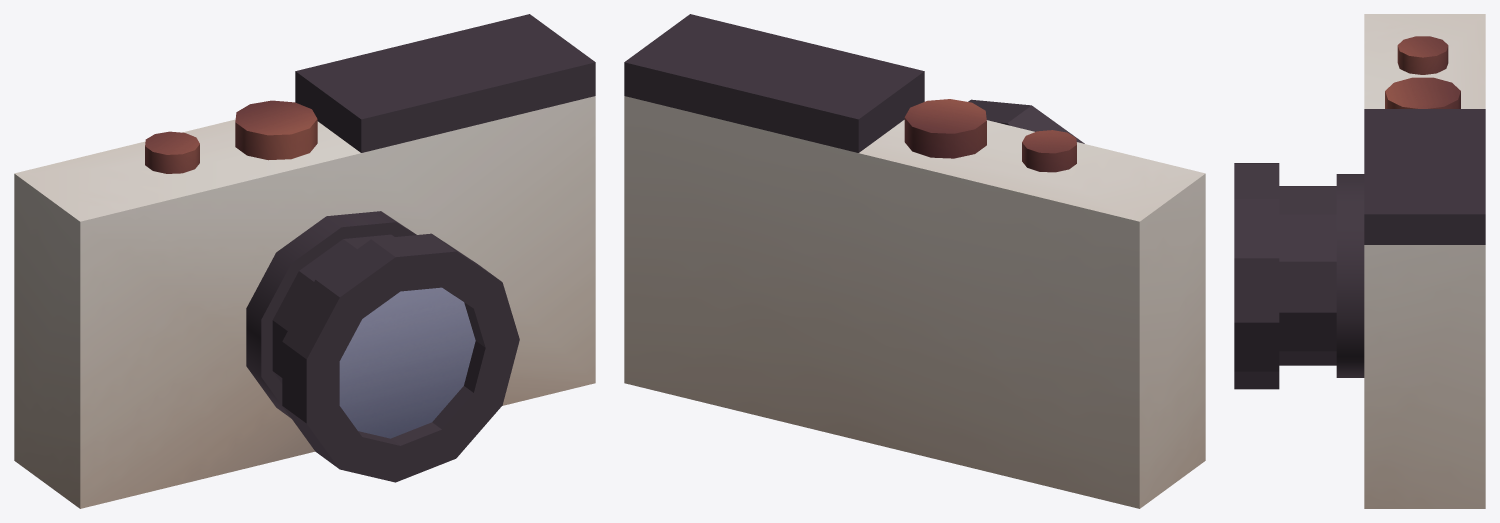
Rendered from M_appphoto.FBX.
The picture shows the model from 3 angles, left to right: view 1: azimuth 30°, elevation 25°; view 2: azimuth 150°, elevation 25°; view 3: azimuth 270°, elevation 25°; orthographic projection. The views are drawn at different scales.
Visible parts, largest first — view 1: Box004; view 2: Box004; view 3: Box004.
Part boxes in pixels (x1,y1,x2,y2): Box004: (14, 14, 595, 508); Box004: (624, 14, 1205, 508); Box004: (1234, 14, 1485, 508).
Bounding box in the file's own units: 23.34 × 10.72 × 13.88.
